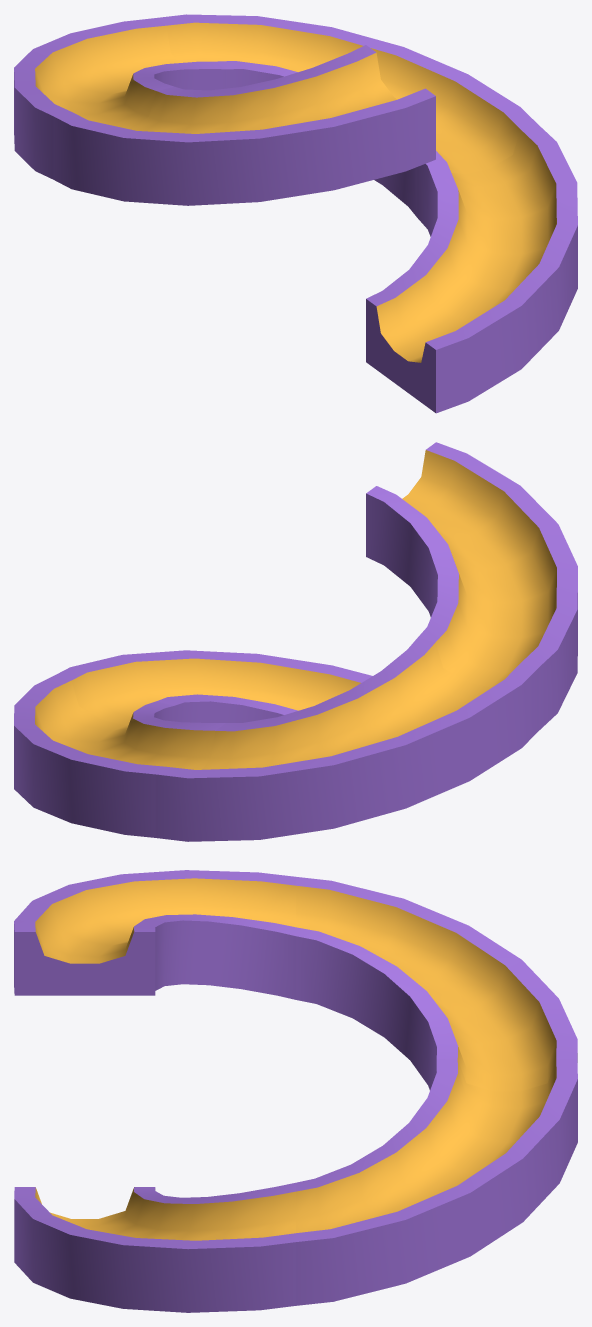
Rendered from helix-left.glb.
3 views of the same model, one above another, from view 1: azimuth 30°, elevation 25°; view 2: azimuth 150°, elevation 25°; view 3: azimuth 270°, elevation 25° (orthographic).
Parts seen in each view (by area): view 1: helix-left; view 2: helix-left; view 3: helix-left.
Part boxes in pixels (bbox=[...]): helix-left: bbox=[14, 14, 577, 413]; helix-left: bbox=[14, 442, 577, 841]; helix-left: bbox=[14, 870, 577, 1312].
Size of the model in its own units: 4.01 by 2.5 by 4.01.
1 material, 1 textured.
